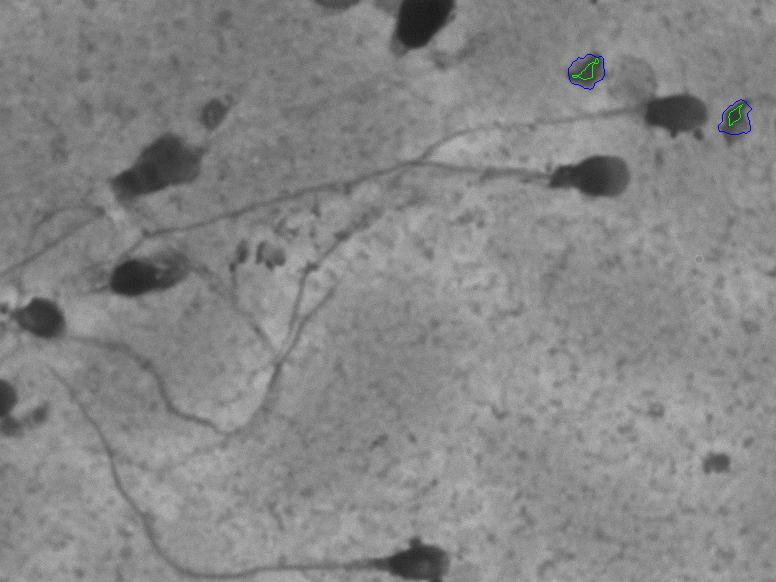Abnormal: (227, 131, 639, 277), (452, 43, 736, 156), (104, 212, 194, 329), (5, 264, 76, 367)
